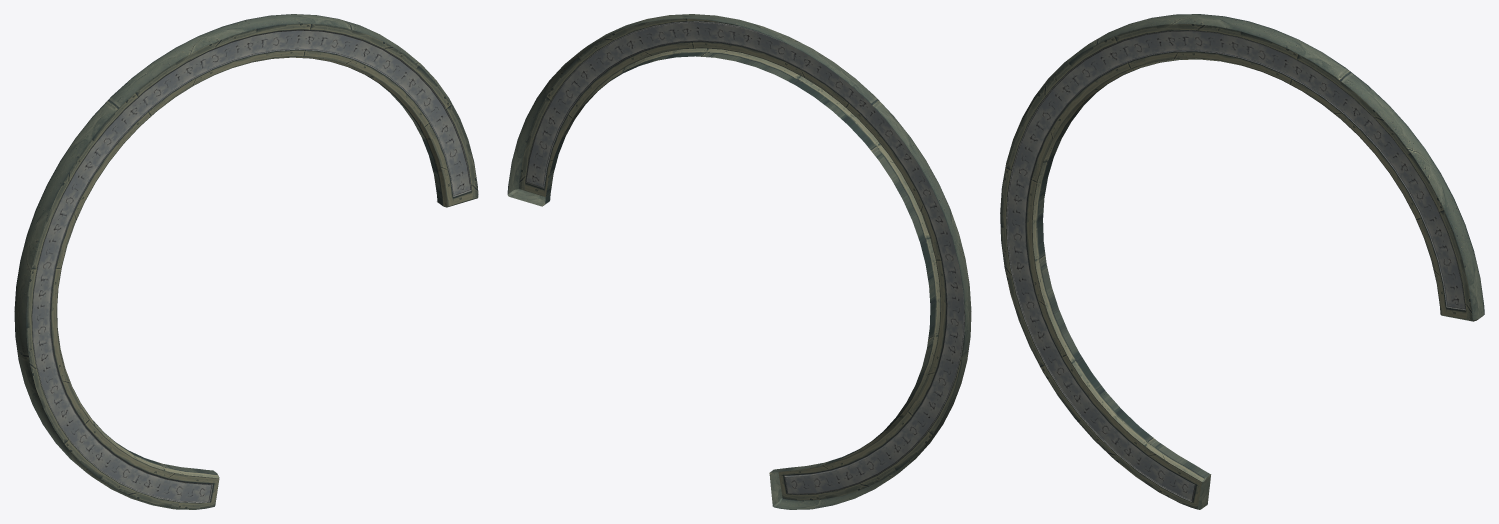
File: Vd_Vulgrim_Platform_OuterRing.fbx
3 renders of one model, left to right at view 1: azimuth 30°, elevation 25°; view 2: azimuth 150°, elevation 25°; view 3: azimuth 330°, elevation 25°, orthographic. The views are drawn at different scales.
Visible parts, largest first — view 1: Vd_Vulgrim_Platform_OuterRing; view 2: Vd_Vulgrim_Platform_OuterRing; view 3: Vd_Vulgrim_Platform_OuterRing.
Part boxes in pixels (box(x1,y1,x2,y2)): Vd_Vulgrim_Platform_OuterRing: box(14, 14, 478, 509); Vd_Vulgrim_Platform_OuterRing: box(507, 14, 971, 509); Vd_Vulgrim_Platform_OuterRing: box(1000, 14, 1484, 509).
Bounding box in the file's own units: 2528 × 2497 × 85.95.
